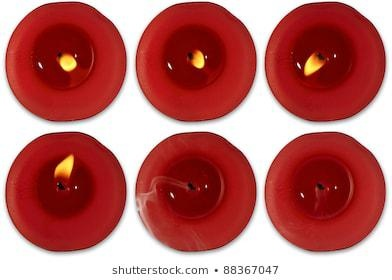fire: (52, 152, 74, 187), (300, 50, 325, 75)
